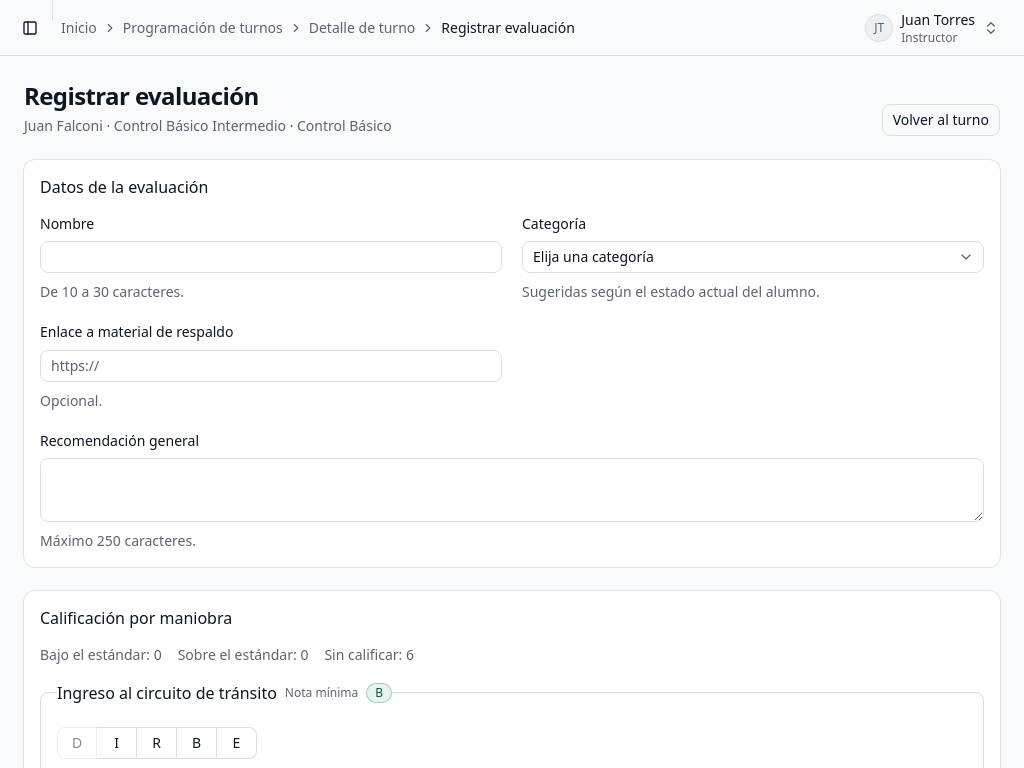
Test: Registrar evaluación › CA-EVA-11 ofrece las categorías sugeridas por el estado del alumno
Expected: the heading "Registrar evaluación" is shown, [24,79,259,112]
Expected: the heading "Calificación por maniobra" is shown, [40,607,232,629]
Select "Complementación" in the dropdown labelled "Categoría". click: (753, 257)
box: [522,241,984,273]
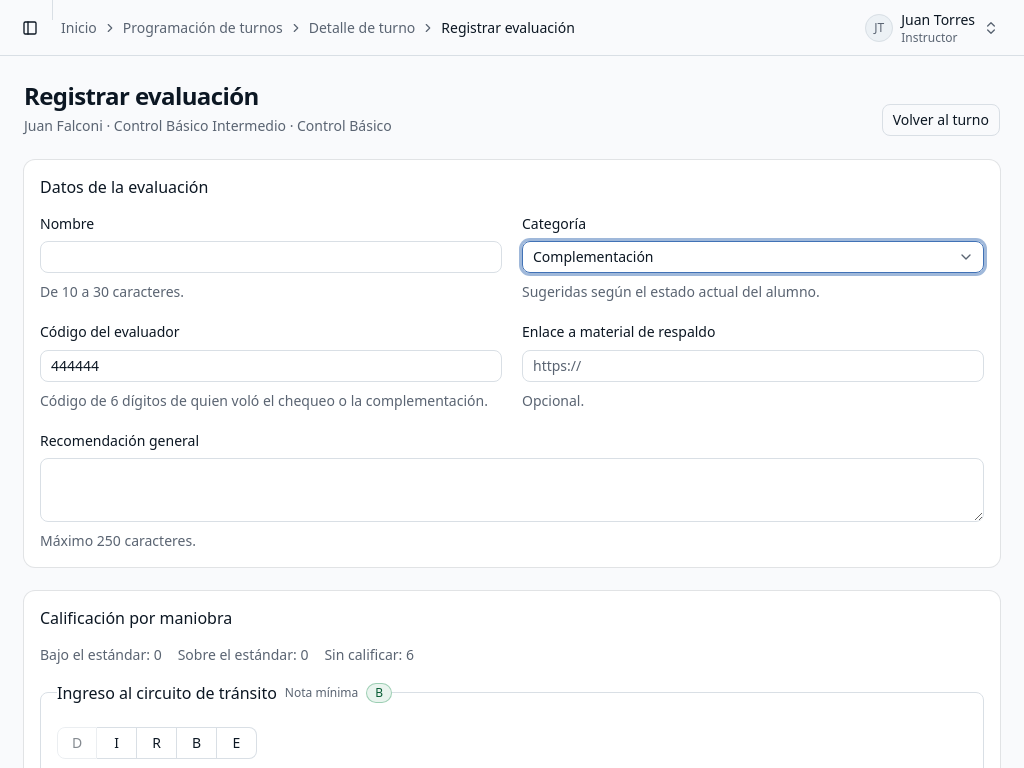
Result: the field labelled "Código del evaluador" holds "444444" at [40,350,502,382]
